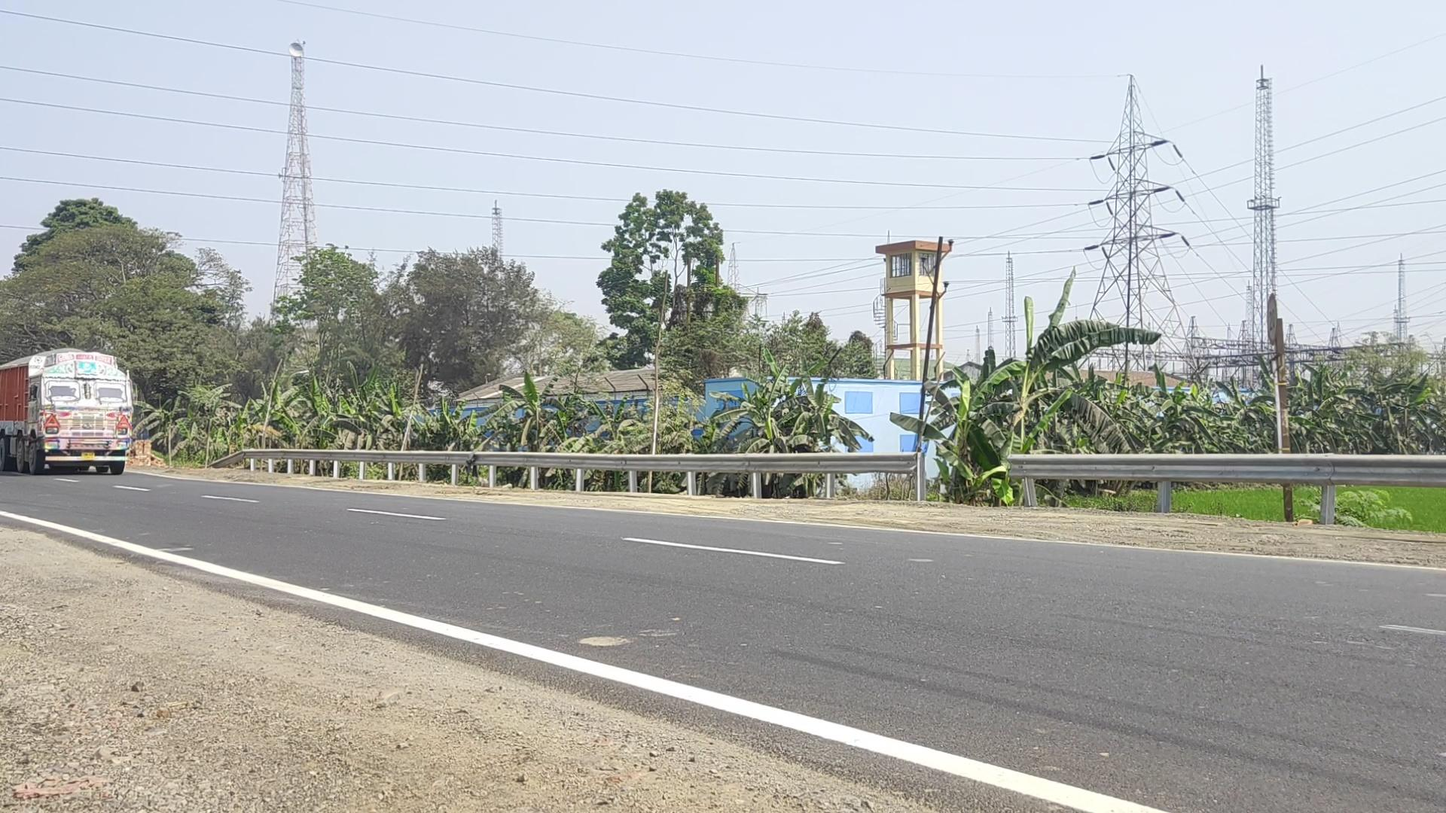truck: (1, 348, 133, 477)
